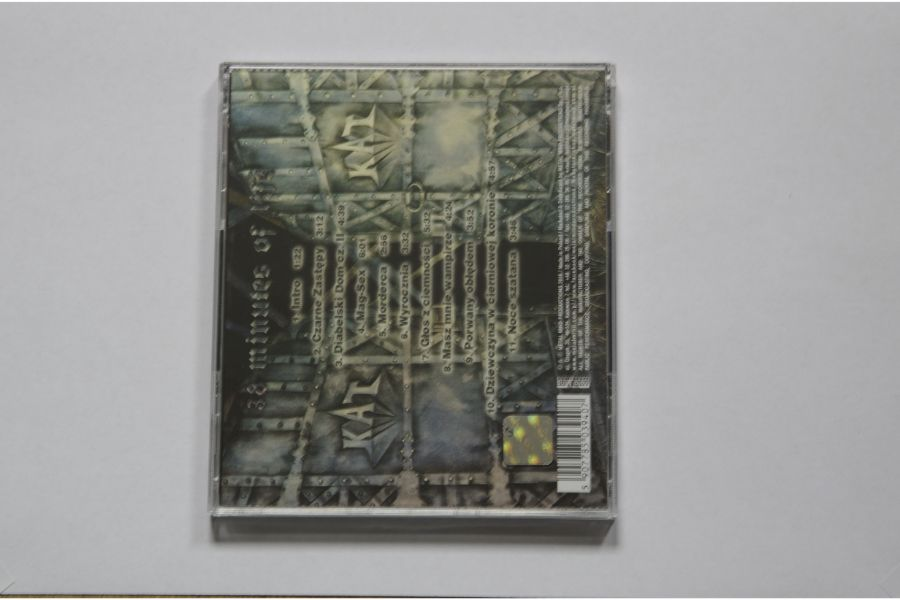album: (209, 61, 622, 522)
